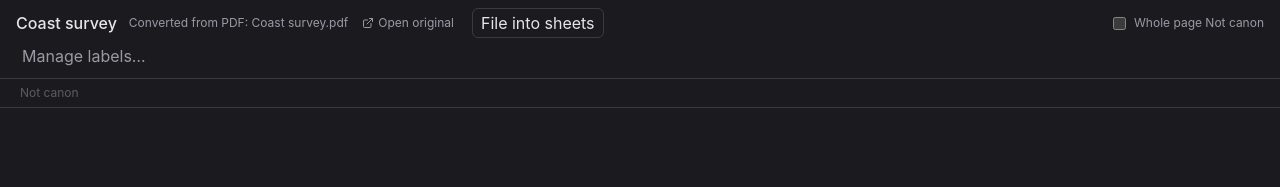
Test: the Research page (F-16.8) › names a converted PDF, opens its original, and switches the whole page Not canon
Expected: the heading "Coast survey" is shown, top-left (16, 11), bottom-right (117, 35)
Expected: the text with test id "research-source" reads "Converted from PDF: Coast survey.pdf", top-left (129, 15), bottom-right (348, 30)
Click the button "Open original" at (408,23), box top-left (356, 13), bottom-right (460, 33)
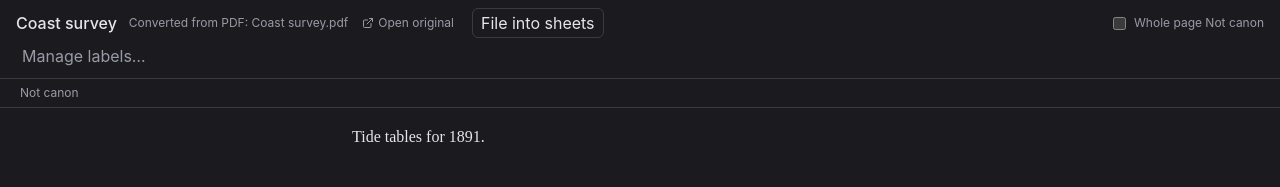
Expected: the field named "Research page" reads "Tide tables for 1891.", top-left (352, 128), bottom-right (485, 145)
Click the switch at (1120,23), box top-left (1113, 16), bottom-right (1126, 30)
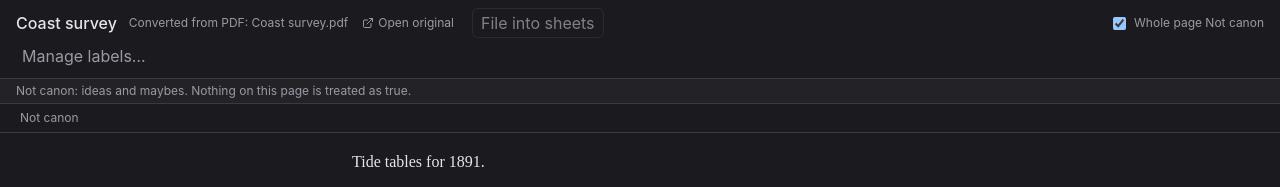
Expected: the text "Nothing on this page is treated as true" is shown, top-left (16, 83), bottom-right (411, 98)
